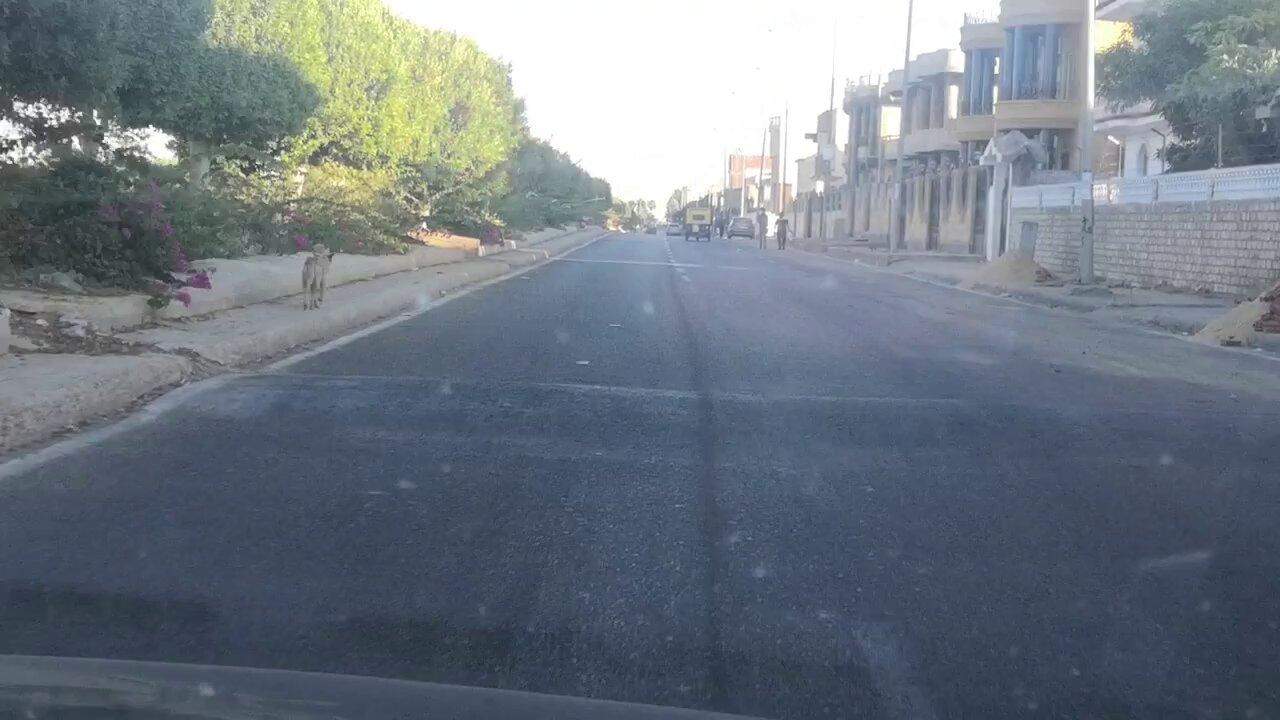Bump: (243, 353, 1280, 511)
